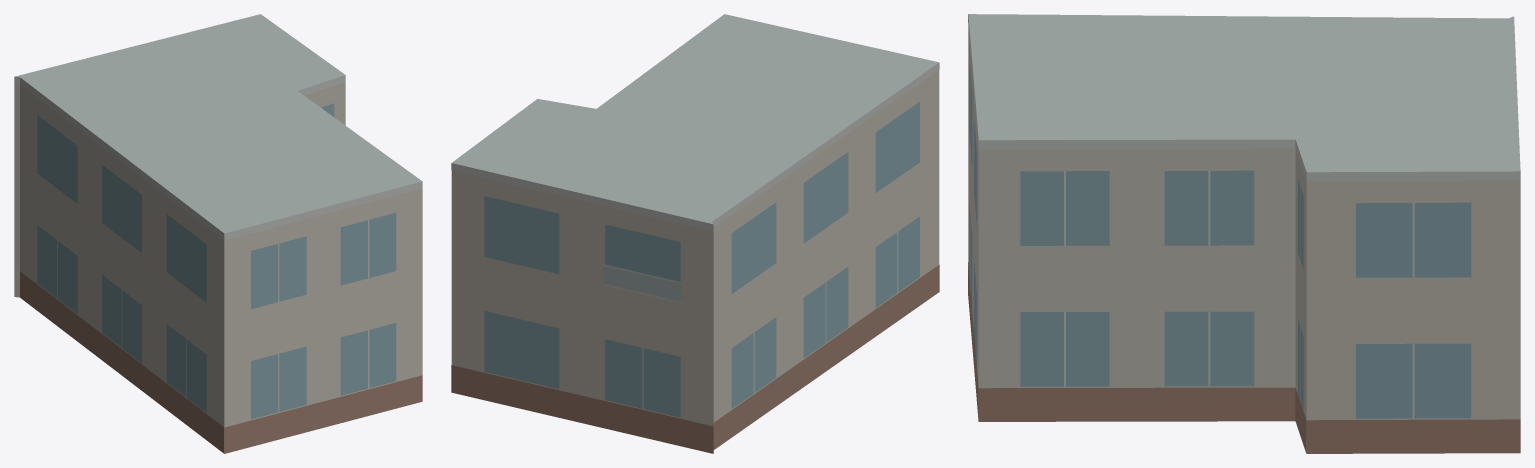
The model's file is survey-upis-32765226.glb.
3 views of the same model, side by side, from view 1: azimuth 30°, elevation 25°; view 2: azimuth 150°, elevation 25°; view 3: azimuth 270°, elevation 25° (orthographic). The views are drawn at different scales.
Visible parts, largest first — view 1: survey-upis-32765226.tmp; view 2: survey-upis-32765226.tmp; view 3: survey-upis-32765226.tmp.
Part boxes in pixels (x1,y1,x2,y2): survey-upis-32765226.tmp: (14, 14, 422, 453); survey-upis-32765226.tmp: (451, 14, 939, 453); survey-upis-32765226.tmp: (968, 14, 1520, 453).
Bounding box in the file's own units: 9.34 × 7.75 × 13.78.
